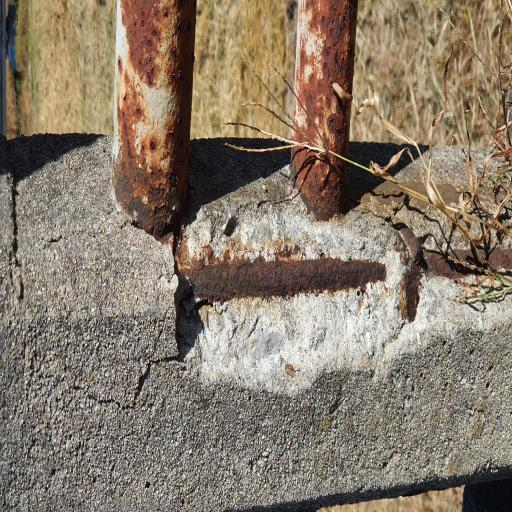exposed_rebar: (397, 228, 512, 322), (183, 256, 386, 306)
spalling: (176, 168, 512, 394)
